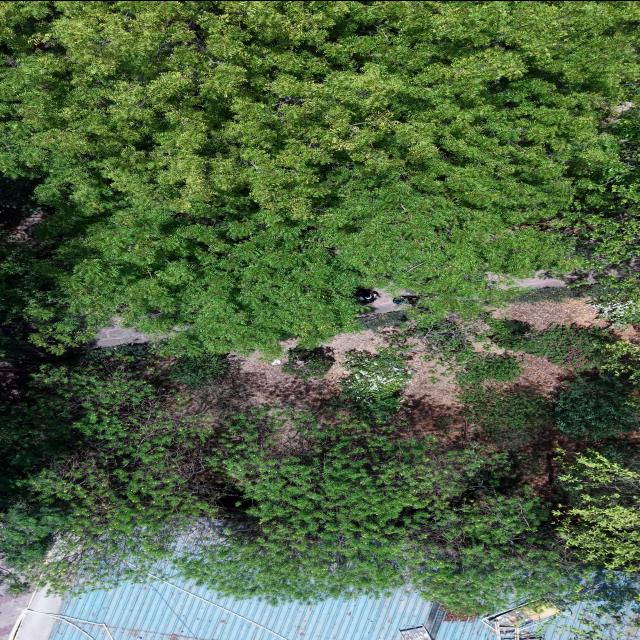DRY_AREA: (183, 328, 391, 421), (185, 328, 392, 419), (184, 328, 385, 420), (185, 329, 384, 419), (186, 330, 382, 419), (184, 358, 343, 420), (397, 356, 471, 440), (513, 425, 588, 500), (402, 352, 460, 413), (491, 299, 610, 328), (491, 299, 607, 328), (491, 299, 606, 328), (86, 316, 166, 347), (515, 354, 573, 395), (88, 317, 161, 346), (486, 270, 594, 288), (487, 270, 595, 288), (0, 585, 31, 639), (0, 207, 46, 241), (90, 323, 153, 346), (367, 288, 412, 313), (512, 275, 567, 287), (609, 324, 639, 342)
ROOFTOP_BUILDING: (9, 581, 494, 639), (399, 625, 432, 639)
VEGETATION_TREE: (0, 1, 639, 614), (0, 1, 639, 353), (0, 345, 636, 614), (1, 351, 587, 613), (189, 412, 576, 613), (1, 358, 222, 592), (2, 217, 369, 355), (552, 336, 639, 639), (552, 337, 639, 639), (540, 100, 639, 325), (553, 339, 639, 581), (540, 78, 639, 269), (552, 440, 639, 639), (553, 443, 639, 577), (548, 571, 639, 639), (332, 349, 411, 422), (491, 319, 605, 369), (552, 374, 639, 439), (461, 386, 550, 449), (393, 314, 488, 362), (526, 325, 603, 368), (599, 335, 639, 411), (561, 607, 639, 639), (505, 283, 615, 302), (168, 354, 231, 387), (456, 354, 522, 384), (599, 336, 639, 385), (591, 287, 639, 325), (282, 346, 334, 379), (358, 309, 409, 329)
